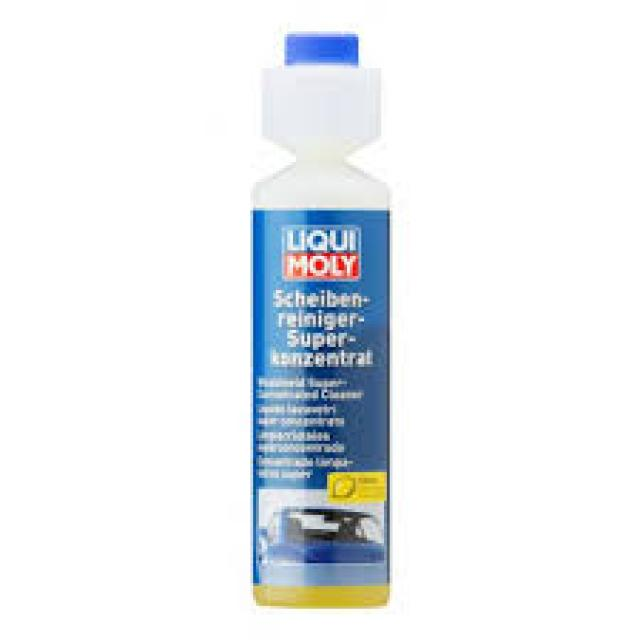winwinshield_washer: (246, 26, 397, 614)
